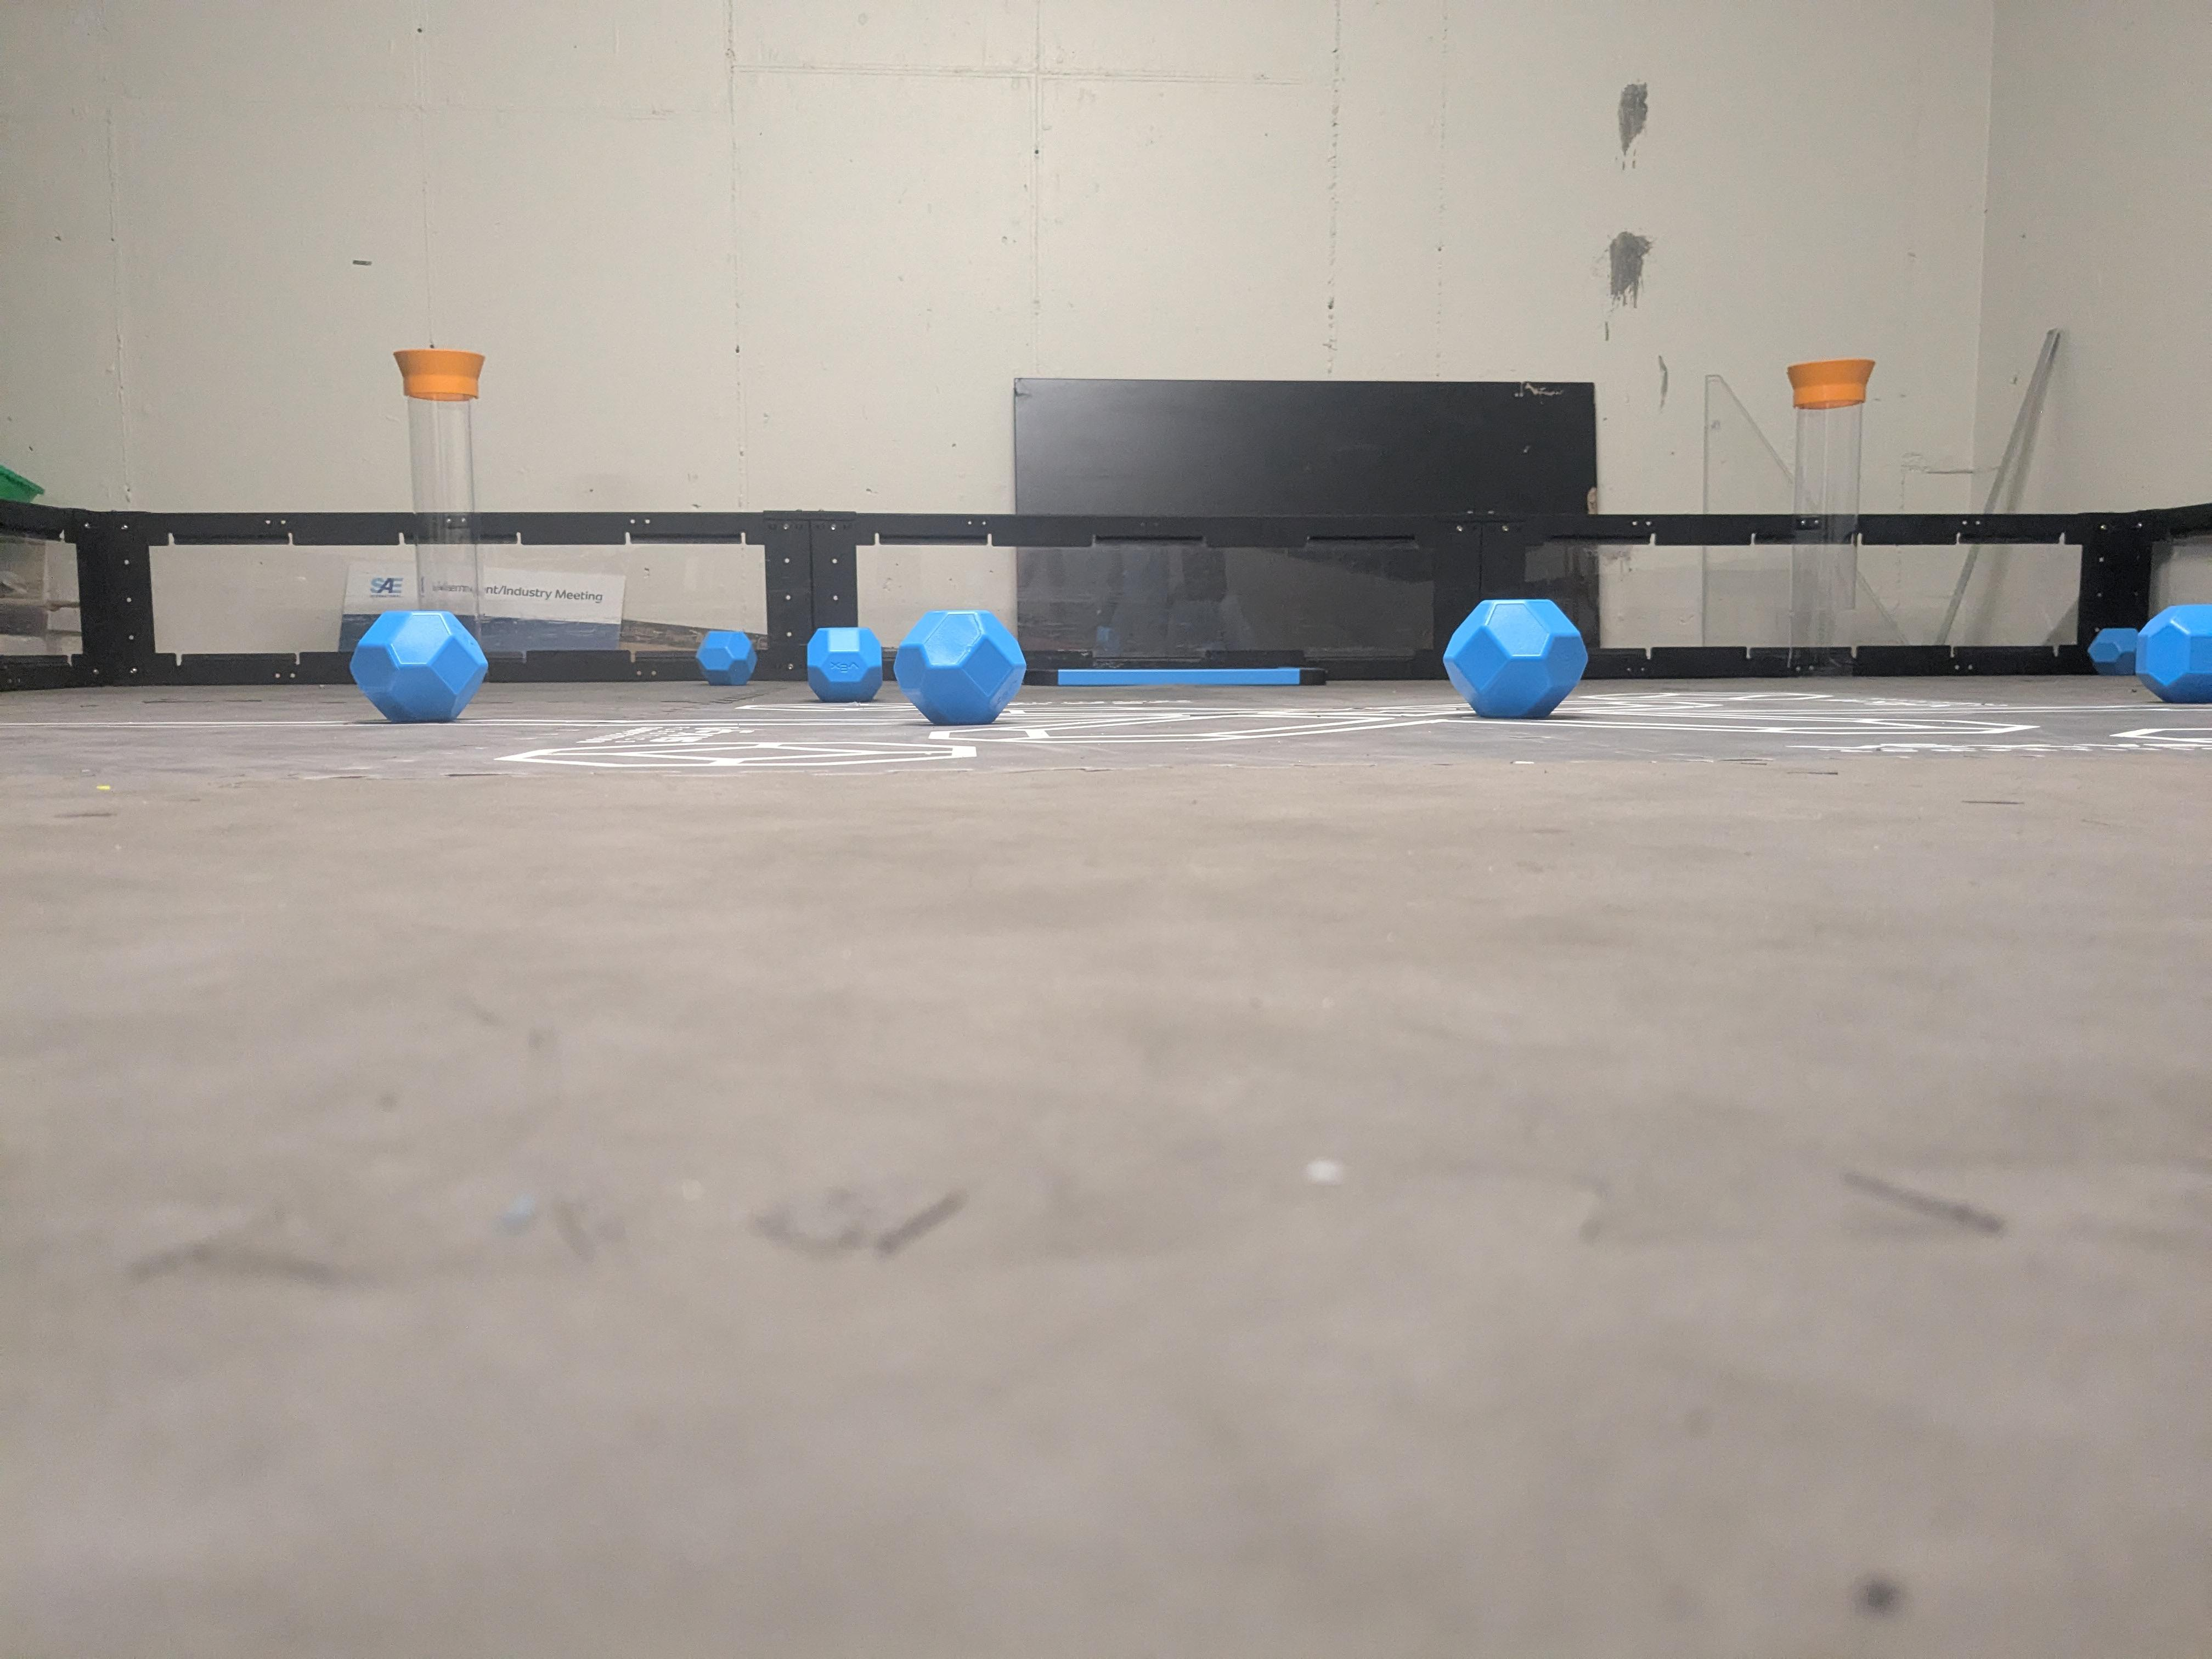Vex-Pieces-BLUE: (1444, 598, 1585, 716), (348, 612, 484, 723), (894, 608, 1022, 723), (2094, 606, 2207, 702), (806, 627, 881, 702), (697, 631, 756, 687)
